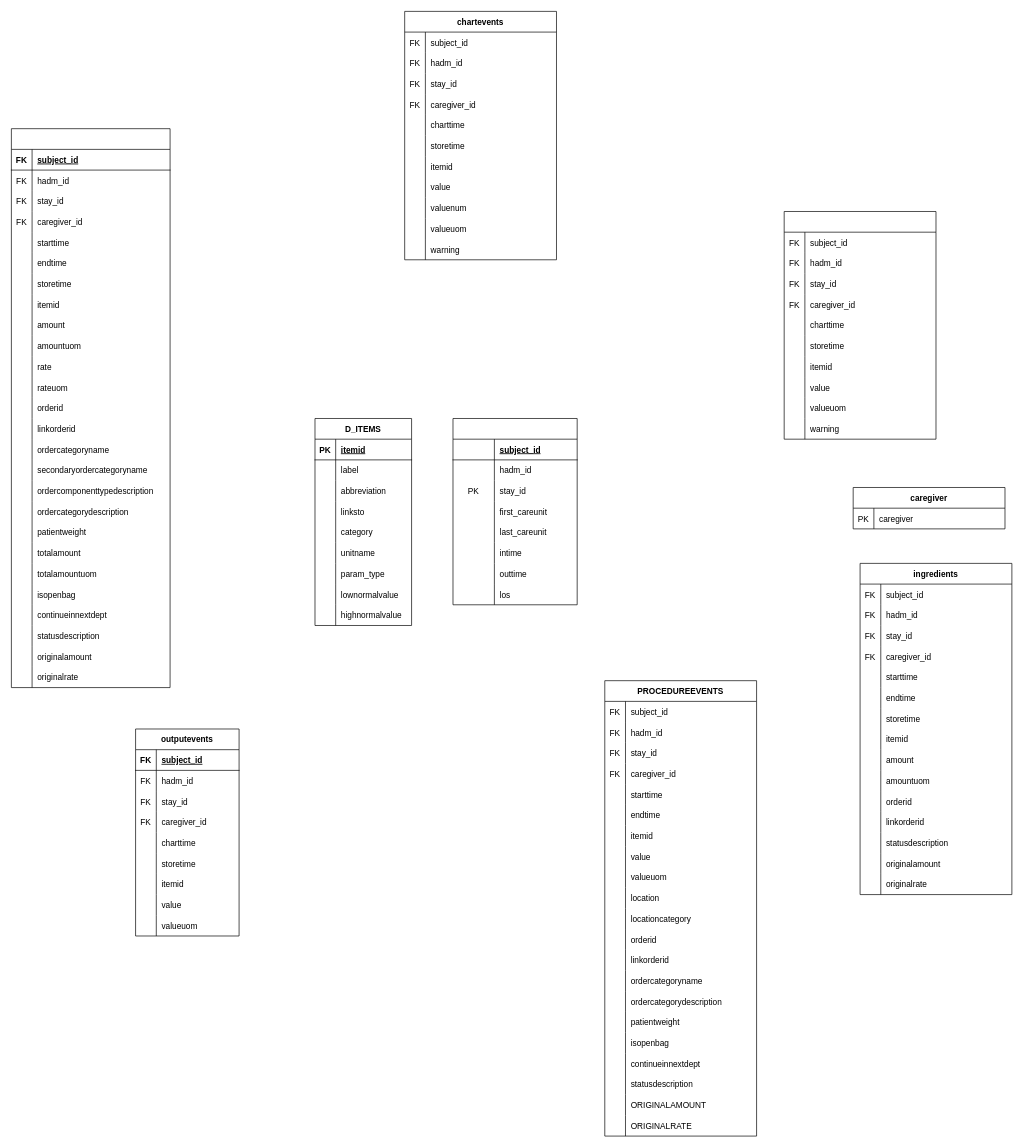
Image size: 1023x1147. Some labels were removed from this diagram. The box of each missing label's shape, as (x1, y1, x2, y2) in pixels:
DATETIMEEVENTS: (783, 211, 936, 439)
ICUSTAYS: (452, 418, 577, 605)
inputevents: (11, 128, 170, 688)
